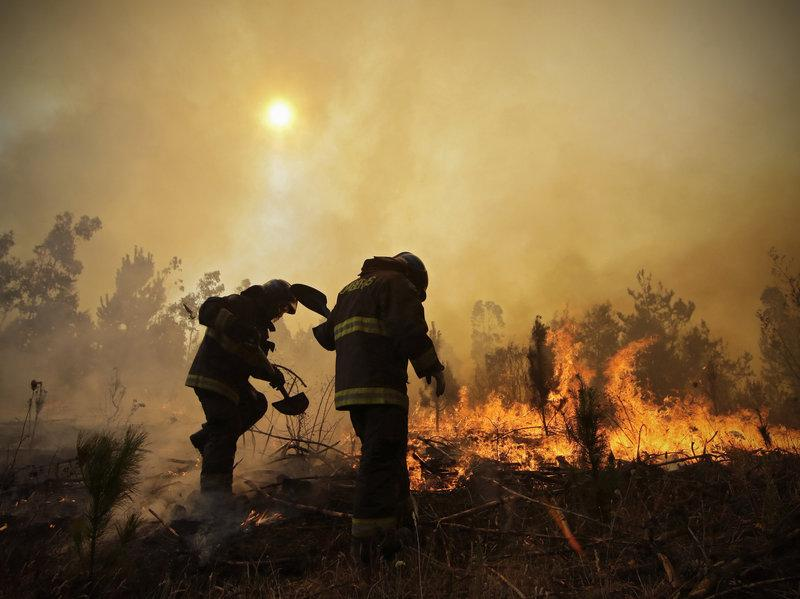Fire: (404, 324, 800, 498)
